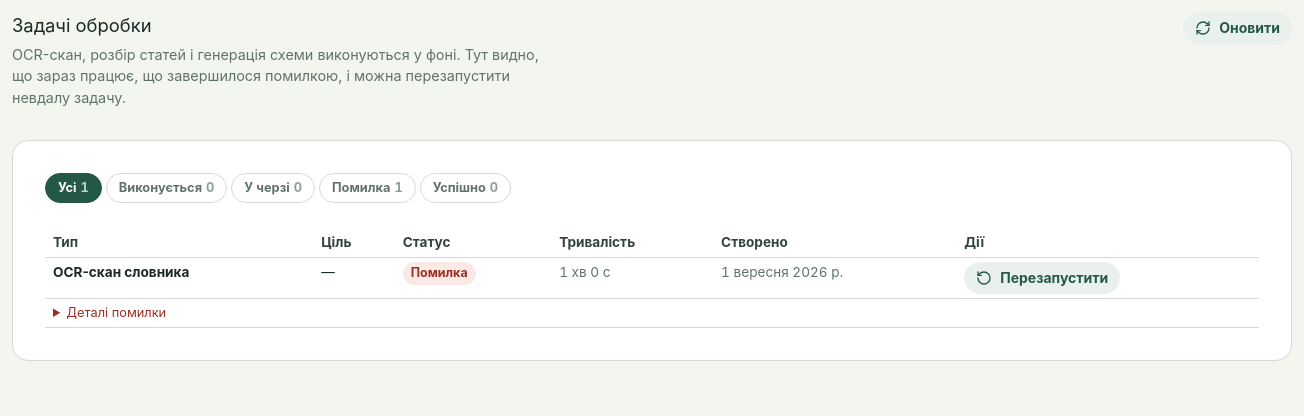
Test: DictionaryTasksPage › retries a failed task and surfaces a 409 message
Click the button "Перезапустити": (1042, 278) [964, 262, 1120, 294]
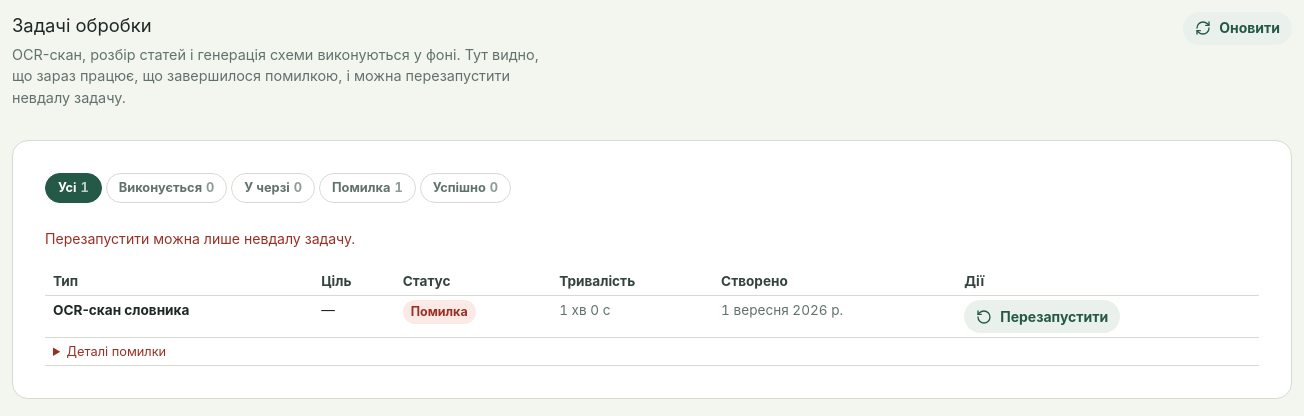
Result: the text "Перезапустити можна лише невдалу задачу." is shown at [45, 230, 355, 247]
